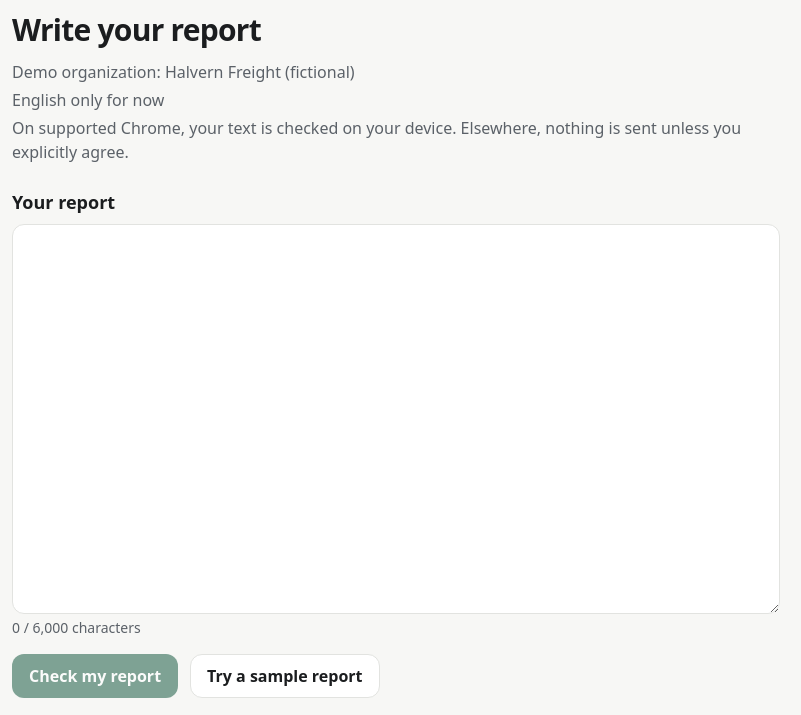
Scenario: ComposeScreen › shows a live character counter
The image size is (801, 715).
Expected: the text "0 / 6,000 characters" is shown, [12,618,141,637]
In the text box labelled "Your report": (396, 419) [12,224,780,614], type "Hello"
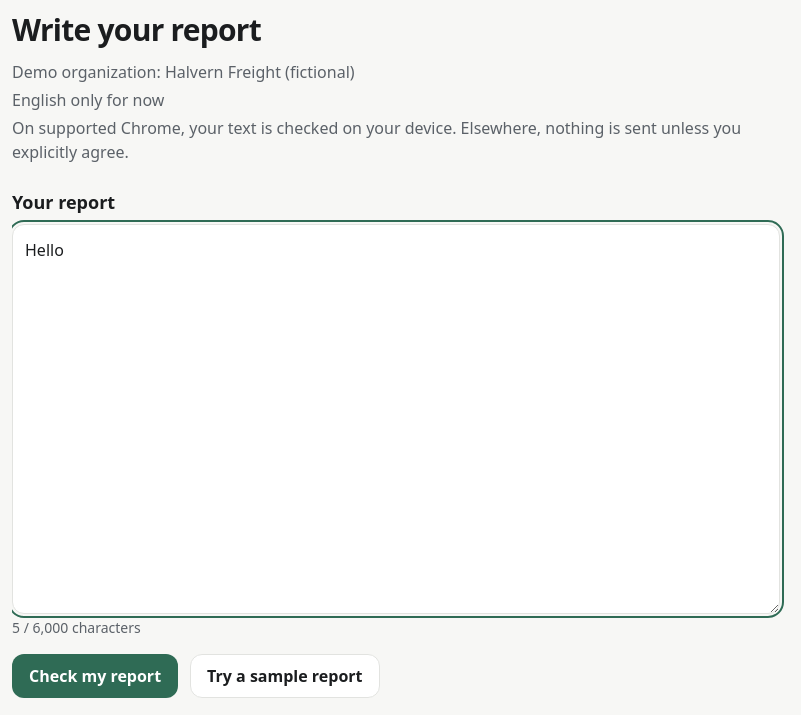
Now the text "5 / 6,000 characters" is shown, box [12,618,141,637]
